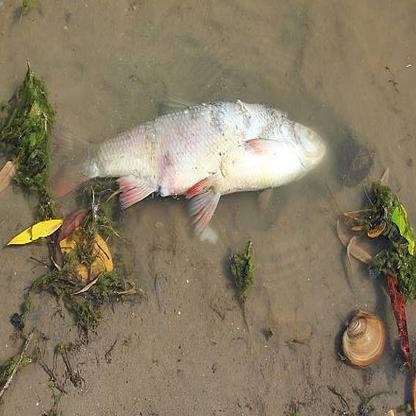deceased fish: (28, 108, 335, 231)
